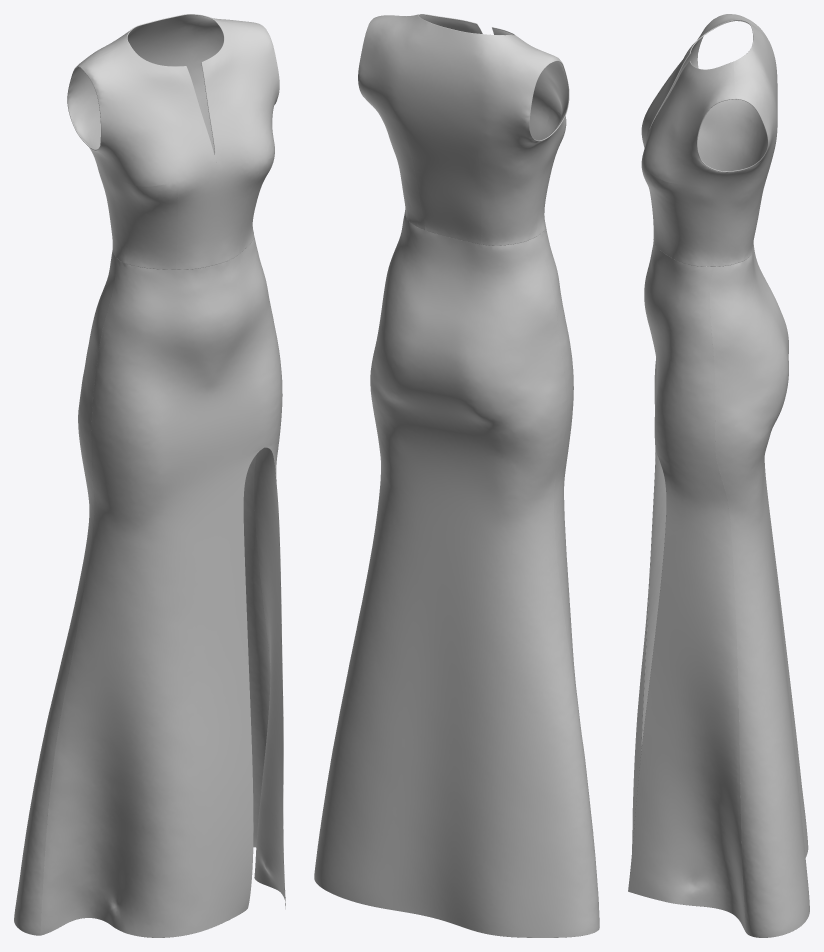
The picture shows the model from 3 angles, left to right: view 1: azimuth 30°, elevation 25°; view 2: azimuth 150°, elevation 25°; view 3: azimuth 270°, elevation 25°; orthographic projection. The views are drawn at different scales.
Parts seen in each view (by area): view 1: Pattern_478383, Base_drippy_tight_regular shoulder_9, Pattern_887079, Base_drippy_tight_regular shoulder_1; view 2: Pattern_887079, Base_drippy_tight_regular shoulder_1, Base_drippy_tight_regular shoulder_9, Pattern_478383; view 3: Pattern_478383, Pattern_887079, Base_drippy_tight_regular shoulder_9, Base_drippy_tight_regular shoulder_1.
Part boxes in pixels (bbox=[...]): Pattern_478383: bbox=[40, 235, 285, 937]; Base_drippy_tight_regular shoulder_9: bbox=[80, 20, 279, 269]; Pattern_887079: bbox=[14, 251, 270, 935]; Base_drippy_tight_regular shoulder_1: bbox=[67, 14, 257, 256]; Pattern_887079: bbox=[314, 213, 599, 937]; Base_drippy_tight_regular shoulder_1: bbox=[358, 14, 548, 245]; Base_drippy_tight_regular shoulder_9: bbox=[372, 14, 569, 235]; Pattern_478383: bbox=[537, 226, 580, 727]; Pattern_478383: bbox=[628, 242, 746, 932]; Pattern_887079: bbox=[710, 241, 809, 937]; Base_drippy_tight_regular shoulder_9: bbox=[641, 14, 736, 266]; Base_drippy_tight_regular shoulder_1: bbox=[710, 14, 777, 266].
Size of the model in its own units: 0.5122 by 1.59 by 0.3104.
Materials: 1 (1 with a texture image).
